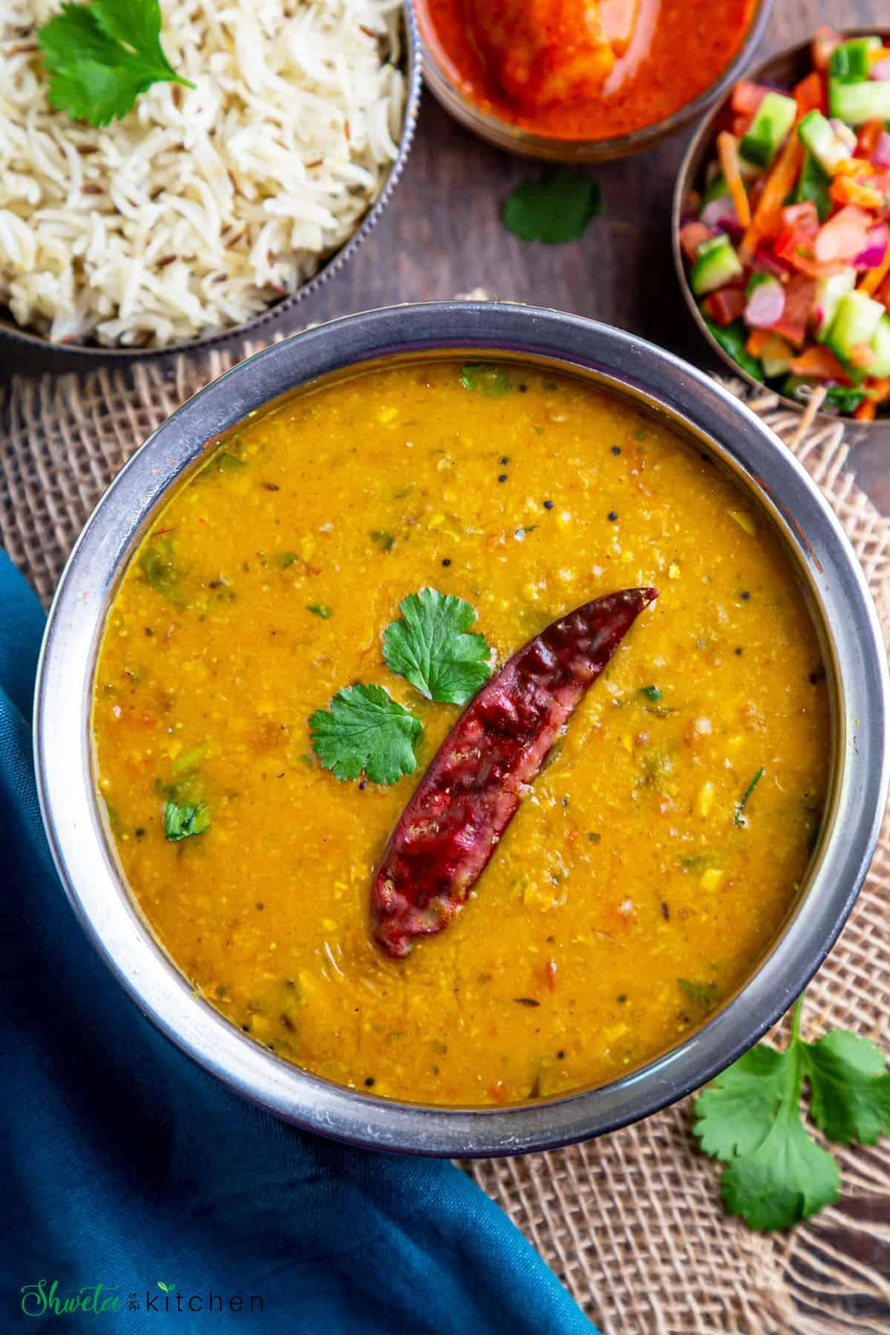dal: (106, 373, 827, 1105)
rice: (6, 0, 401, 337)
